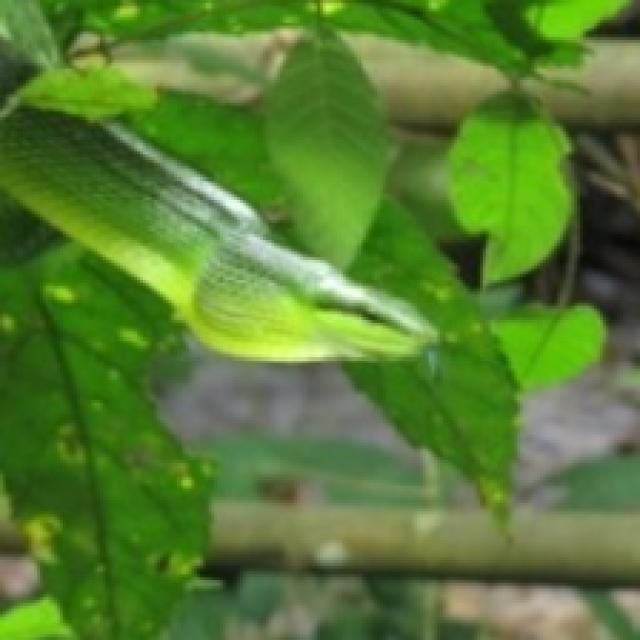red-tailed green ratsnake: (0, 69, 434, 360)
